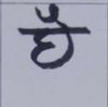au_matra: (45, 5, 79, 64)
